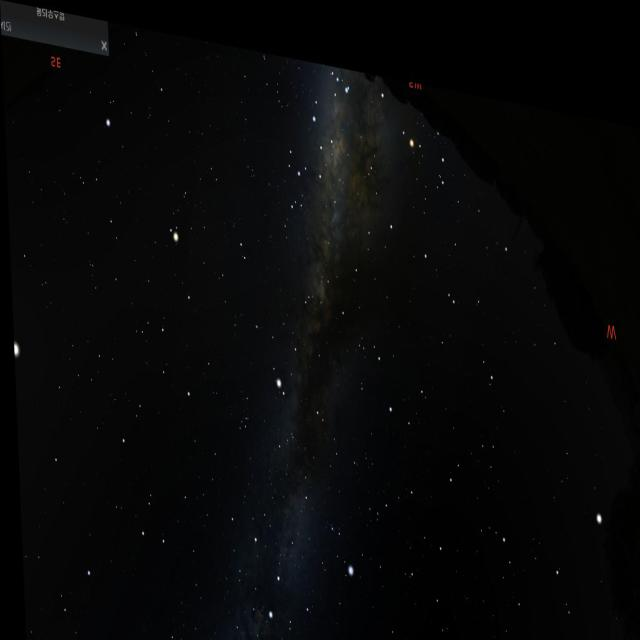aquila: (242, 251, 328, 413)
bootes: (464, 448, 611, 640)
cygnus: (242, 446, 315, 628)
lyra: (314, 498, 357, 564)
sagittarius: (279, 87, 336, 210)
scorpius: (324, 52, 451, 194)
